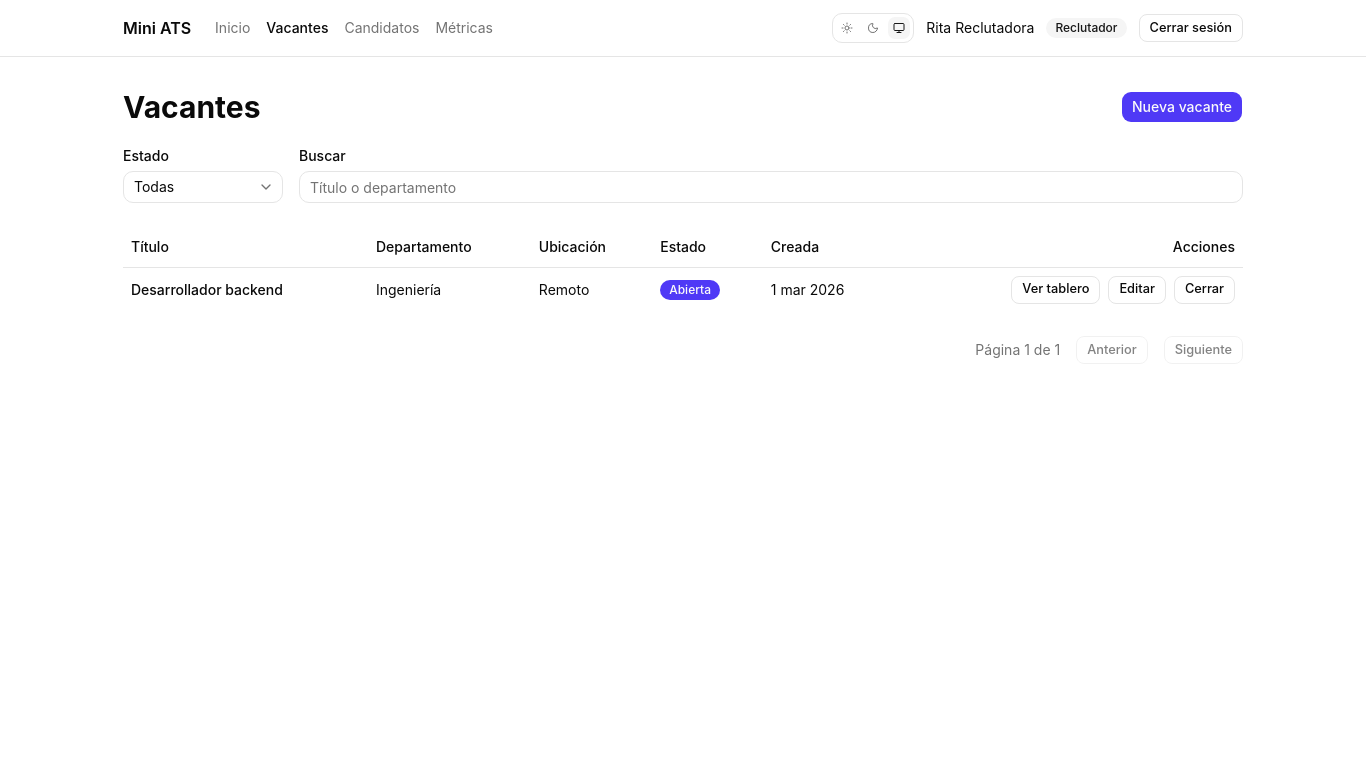
Test: JobsPage › closes a job only after confirming
Expected: the text "Desarrollador backend" is shown, [123, 267, 368, 312]
Click the button "Cerrar".
click(1204, 290)  # box [1174, 276, 1235, 304]
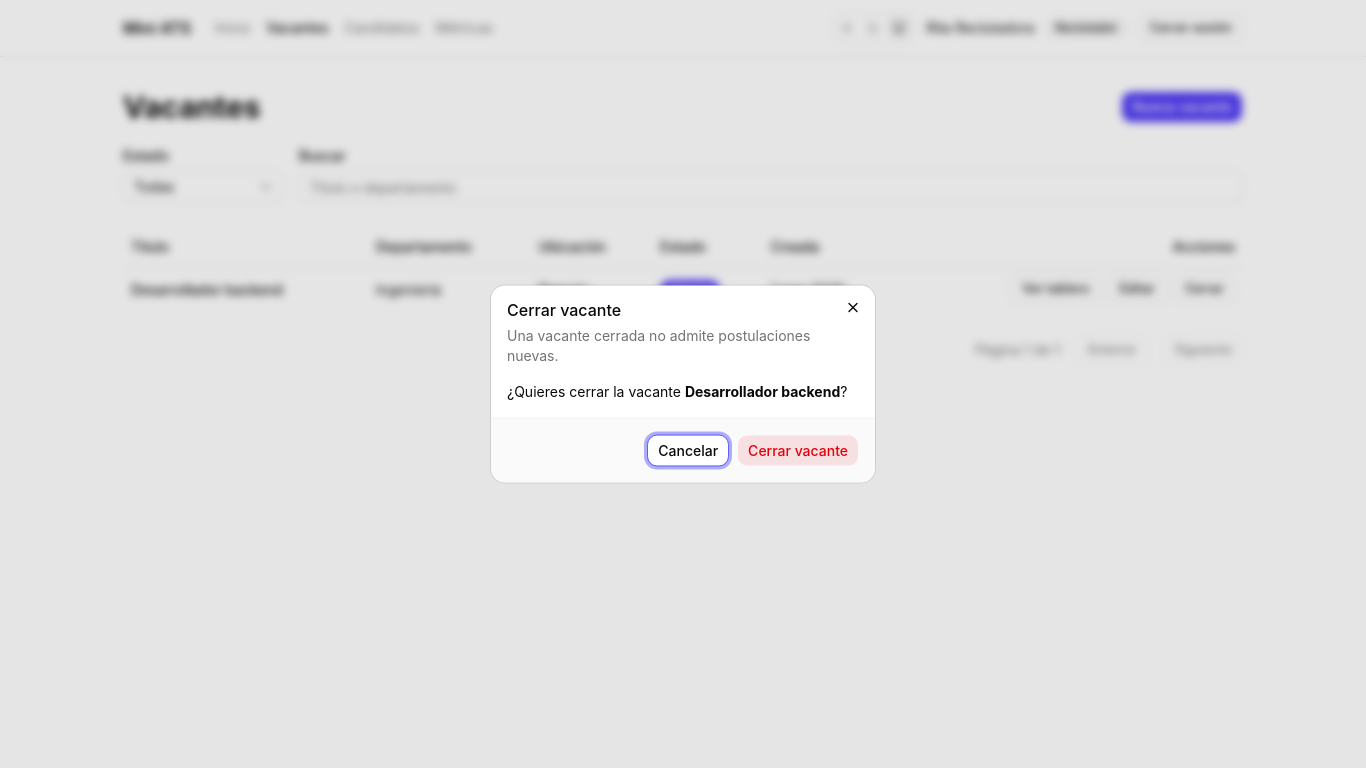
Result: the text "Una vacante cerrada no admite postulaciones nuevas." is shown at [507, 326, 859, 366]
Click the button "Cancelar".
click(688, 450)  # box [647, 434, 729, 466]
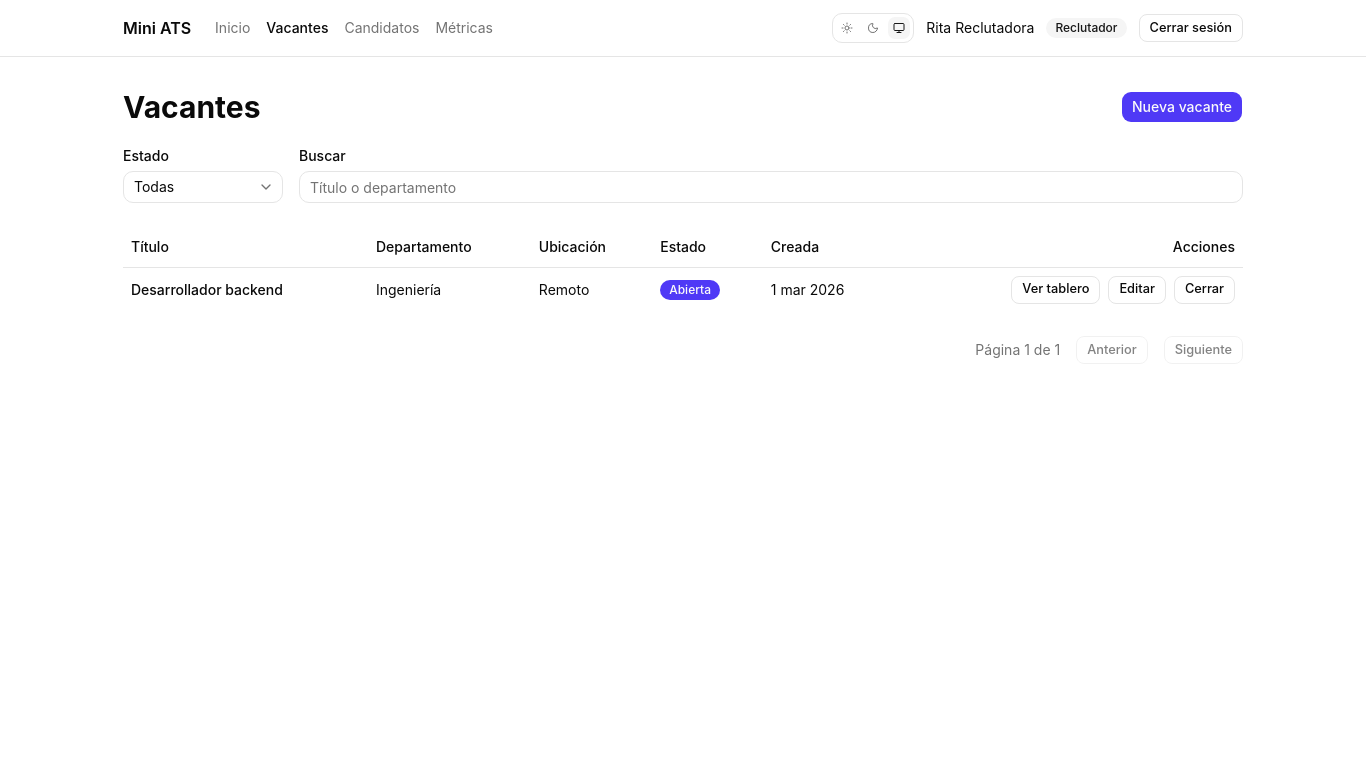
Result: the dialog is gone
Click the button "Cerrar".
click(1204, 290)  # box [1174, 276, 1235, 304]
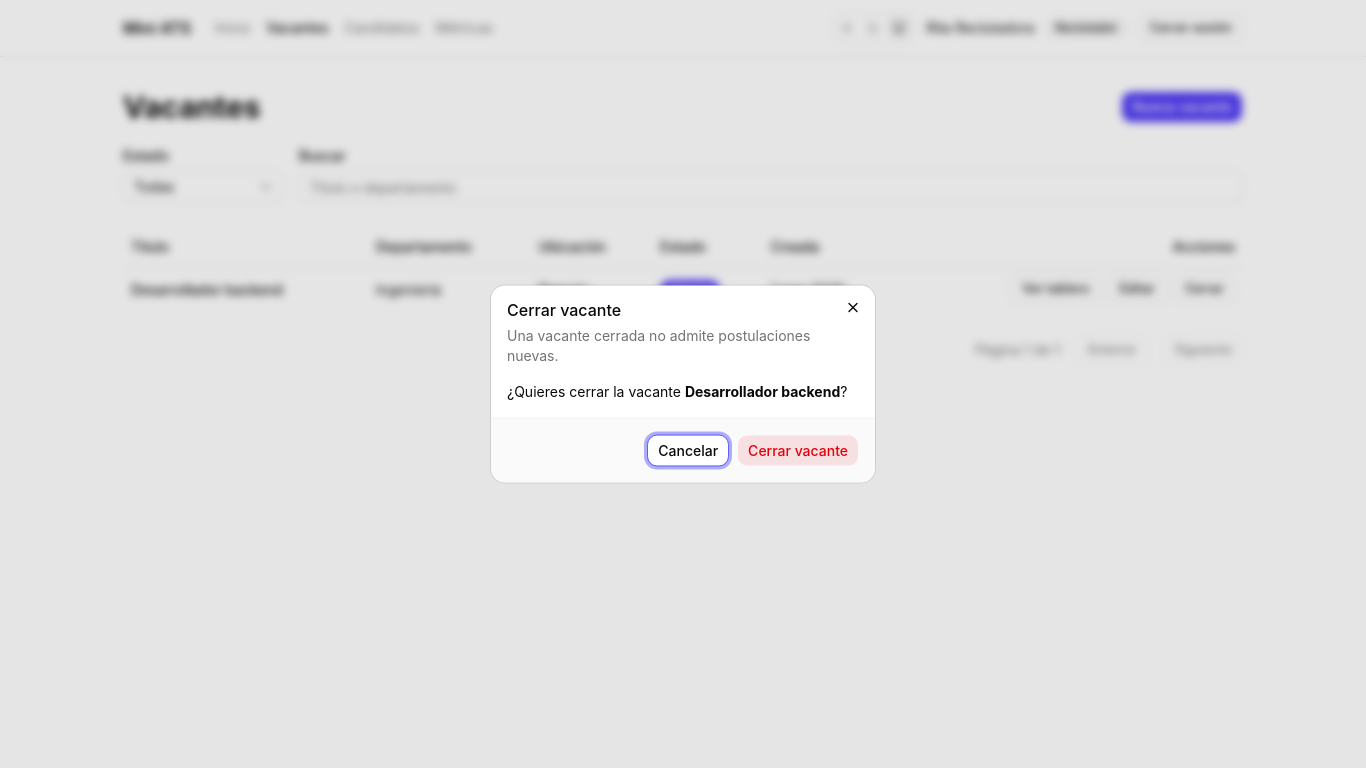
Click the button "Cerrar vacante".
click(798, 450)  # box [737, 434, 859, 466]
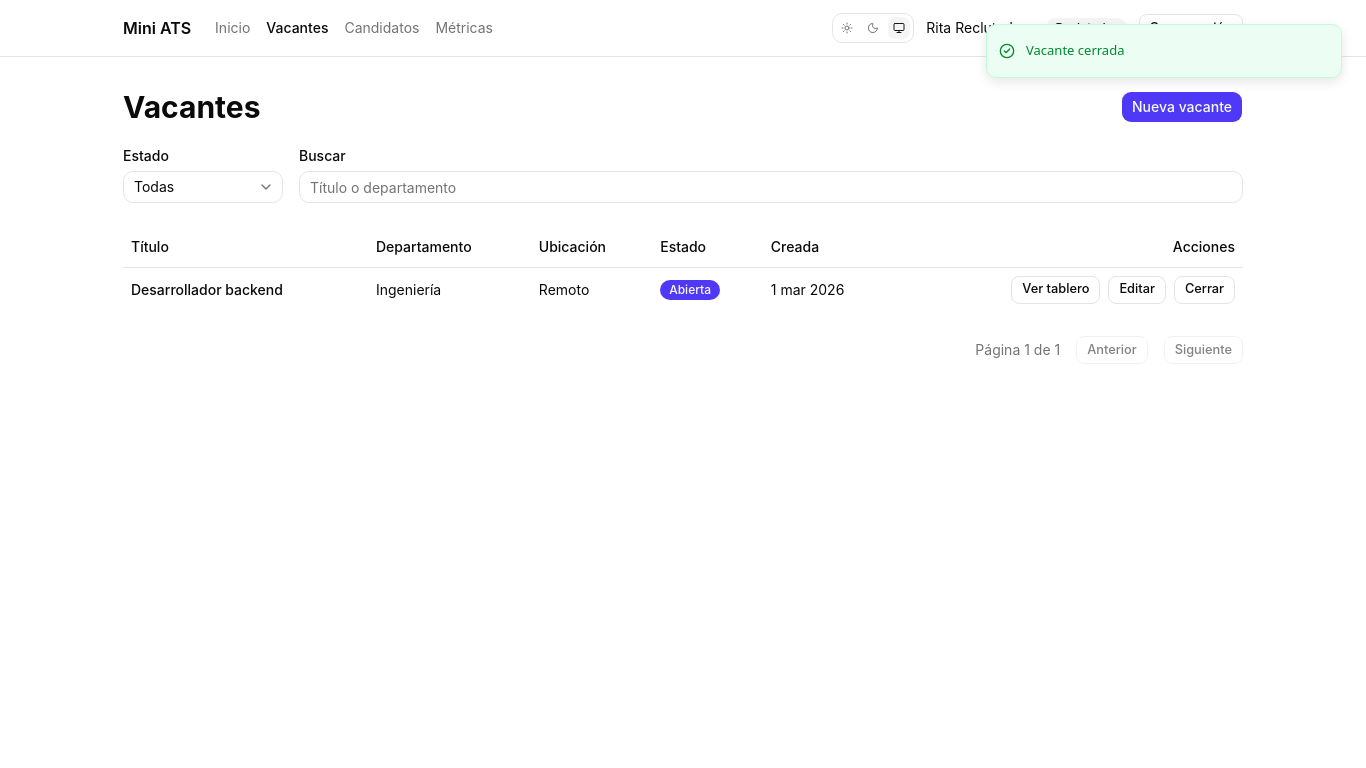
Result: the text "Vacante cerrada" is shown at [1026, 41, 1124, 60]
Result: the dialog is gone
